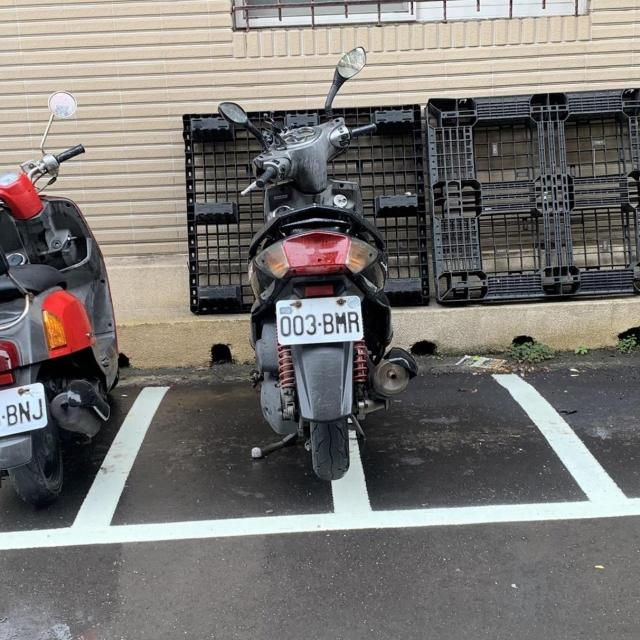W: (268, 291, 369, 348), (0, 379, 54, 443)
